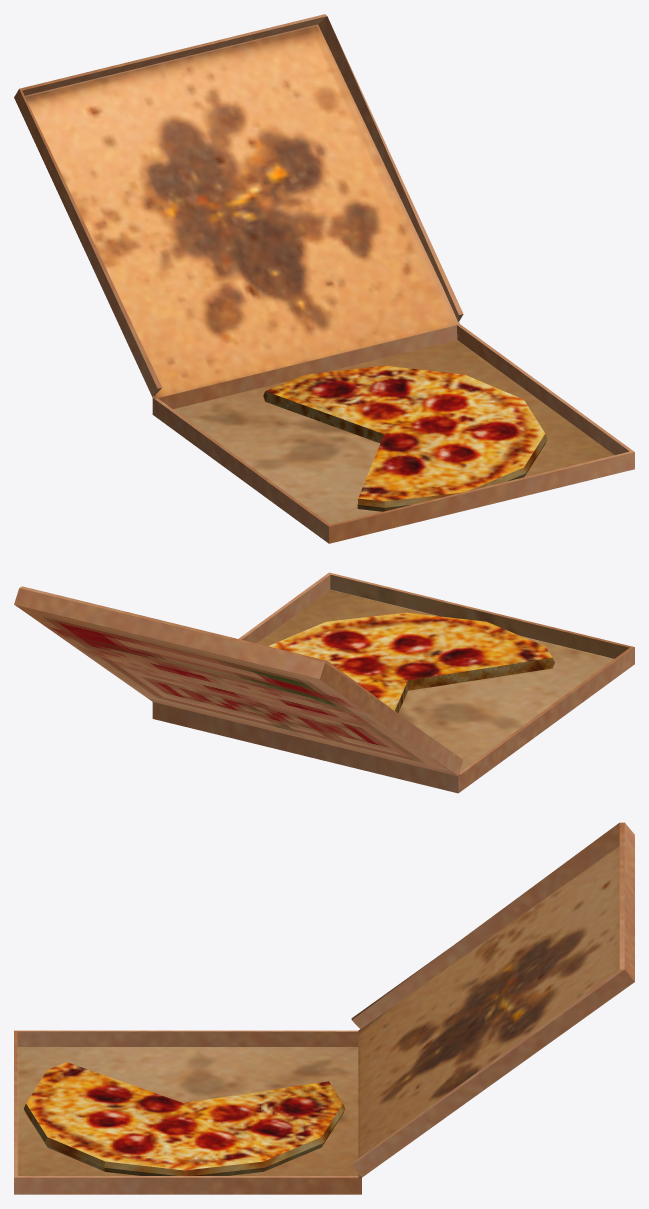
The model's file is pizza_quarter_eaten.glb.
The picture shows the model from 3 angles, top to bottom: view 1: azimuth 30°, elevation 25°; view 2: azimuth 150°, elevation 25°; view 3: azimuth 270°, elevation 25°; orthographic projection.
Parts seen in each view (by area): view 1: pizza quarter eaten; view 2: pizza quarter eaten; view 3: pizza quarter eaten.
Part boxes in pixels (x1,y1,x2,y2): pizza quarter eaten: (14, 14, 634, 543); pizza quarter eaten: (14, 572, 634, 793); pizza quarter eaten: (14, 822, 634, 1194).
Bounding box in the file's own units: 0.5276 × 0.3762 × 0.9413.
2 materials, 2 textured.
